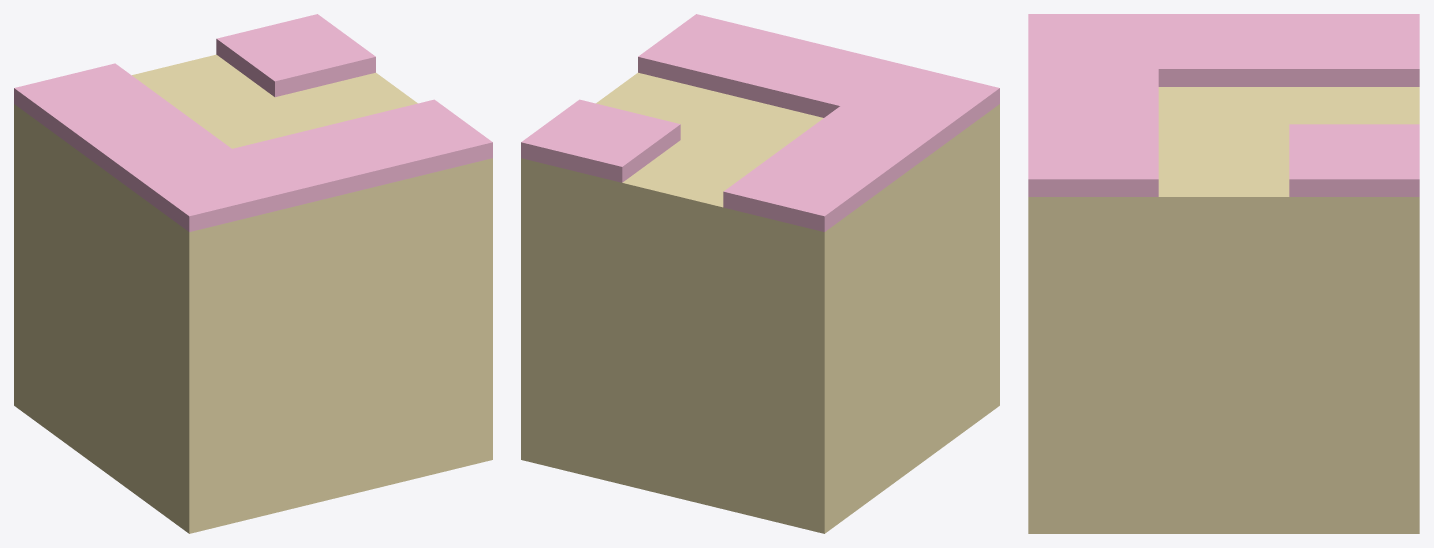
The model's file is CandylandCurveCube.fbx.
3 views of the same model, side by side, from view 1: azimuth 30°, elevation 25°; view 2: azimuth 150°, elevation 25°; view 3: azimuth 270°, elevation 25° (orthographic). The views are drawn at different scales.
Visible parts, largest first — view 1: CandylandCurveCube; view 2: CandylandCurveCube; view 3: CandylandCurveCube.
Part boxes in pixels (box(x1,y1,x2,y2)): CandylandCurveCube: box(14, 14, 492, 533); CandylandCurveCube: box(521, 14, 999, 533); CandylandCurveCube: box(1028, 14, 1419, 533).
Bounding box in the file's own units: 1 × 1 × 1.
